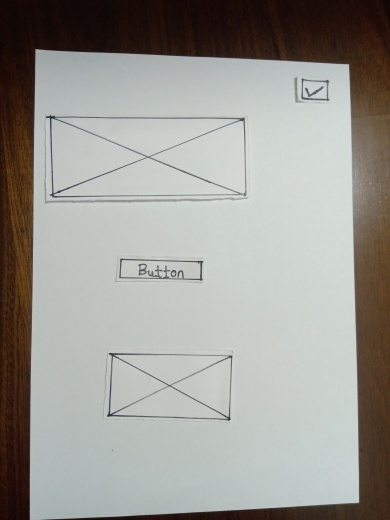button: (121, 256, 202, 283)
checkbox: (301, 75, 328, 101)
img: (50, 116, 249, 197), (105, 353, 230, 419)
